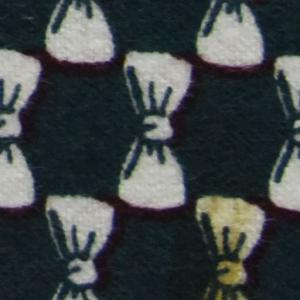Stain: (196, 193, 260, 300)
